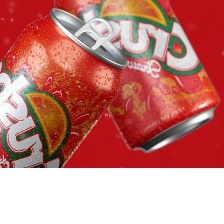can: (52, 0, 222, 156), (0, 6, 129, 167)
